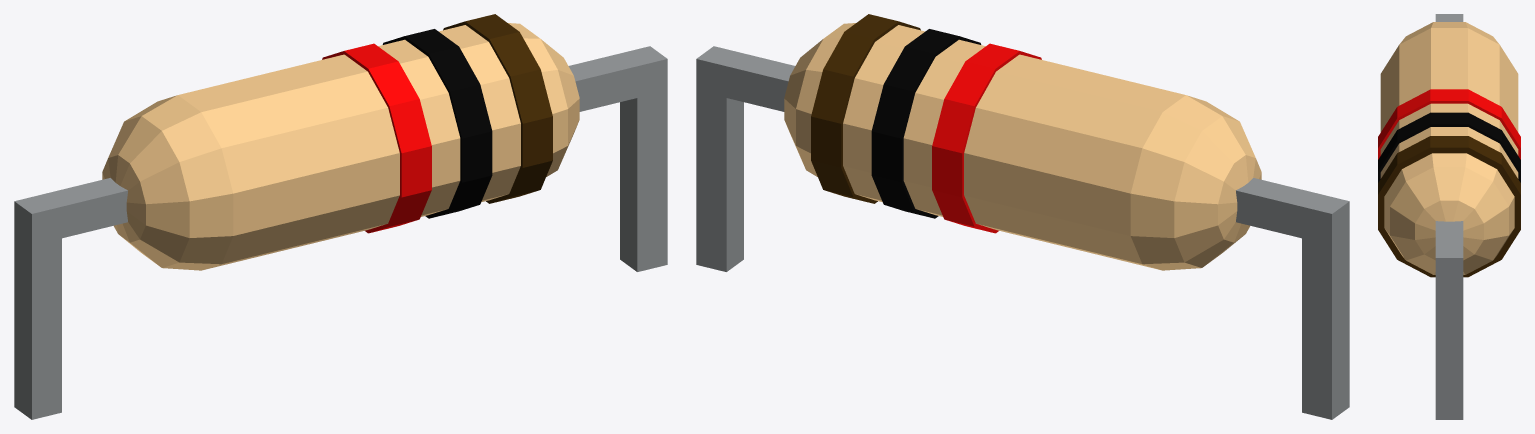
Rendered from resistor1k.obj.
The picture shows the model from 3 angles, left to right: view 1: azimuth 30°, elevation 25°; view 2: azimuth 150°, elevation 25°; view 3: azimuth 270°, elevation 25°; orthographic projection. The views are drawn at different scales.
Visible parts, largest first — view 1: body, mesh, sphere, cylinder; view 2: body, mesh, sphere, cylinder; view 3: sphere, body, cylinder, mesh.
Part boxes in pixels (x1,y1,x2,y2): body: (178, 25, 520, 269); mesh: (14, 46, 667, 419); sphere: (102, 23, 579, 270); cylinder: (322, 14, 552, 233); body: (843, 25, 1185, 269); mesh: (696, 46, 1349, 419); sphere: (784, 23, 1261, 270); cylinder: (811, 14, 1041, 233); sphere: (1384, 22, 1514, 274); body: (1380, 28, 1518, 178); cylinder: (1378, 89, 1520, 277); mesh: (1435, 14, 1463, 419).
Bounding box in the file's own units: 0.6562 × 0.2688 × 0.1625.
1 material, 1 textured.
